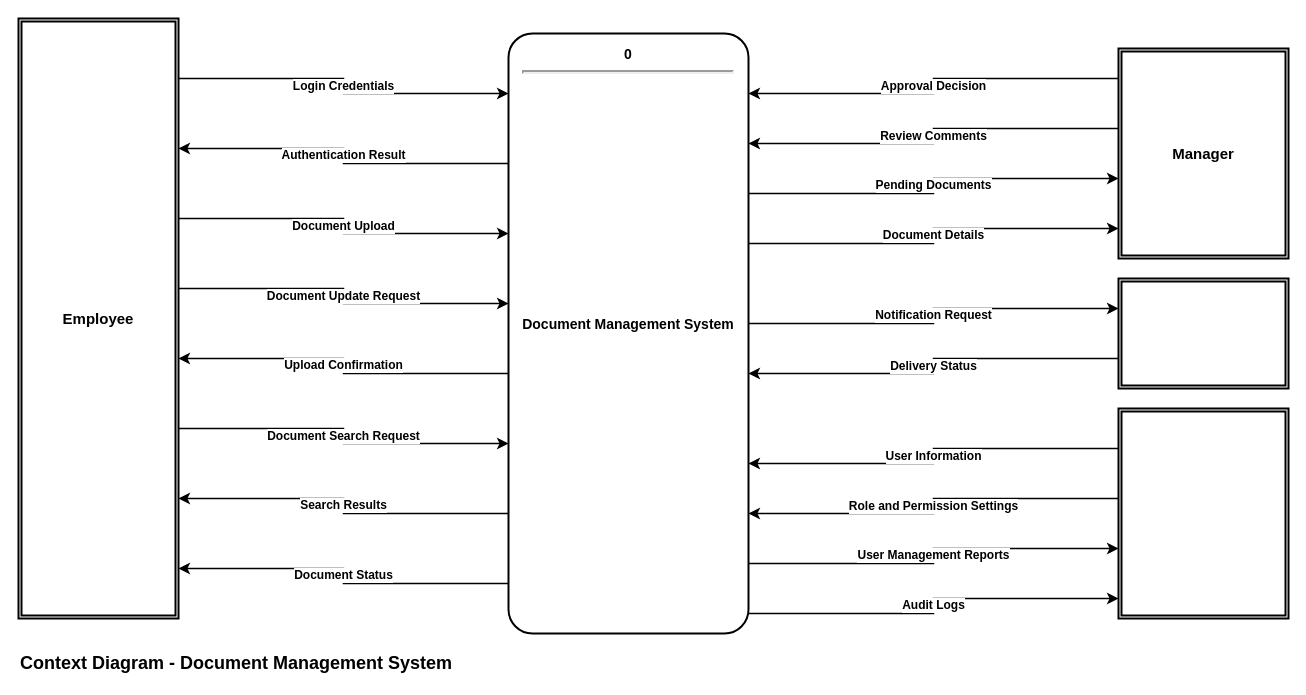
The diagram is 1306 pixels wide and 695 high, and some of its shapes have lost their labels. The shapes that lost their labels are listed below. From the top down, each one's centre as x and y in pixels, then its label:
(x=1203, y=333): Notification Service
(x=1203, y=513): Administrator
